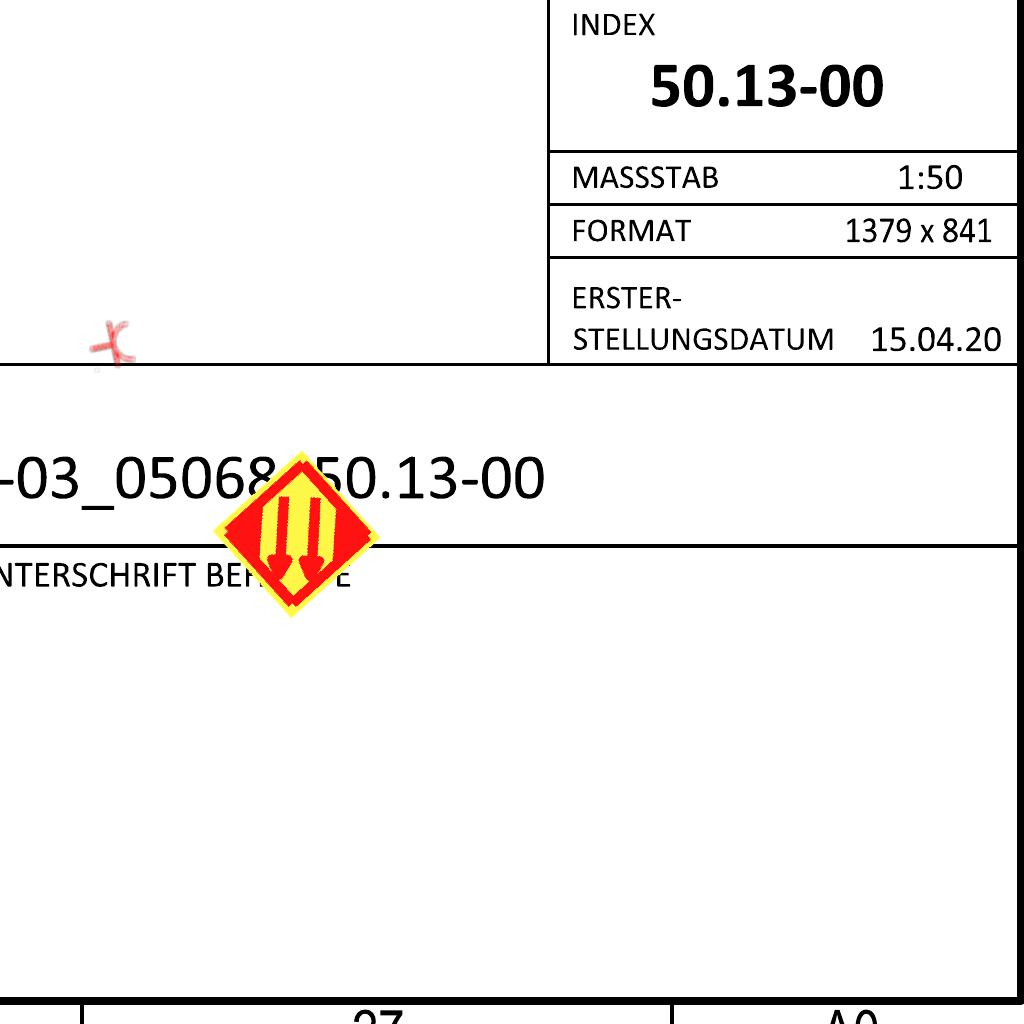ASR_Ansaugrauchmelder: (208, 446, 385, 623)
Schukosteckdose_einfach: (85, 317, 138, 375)
